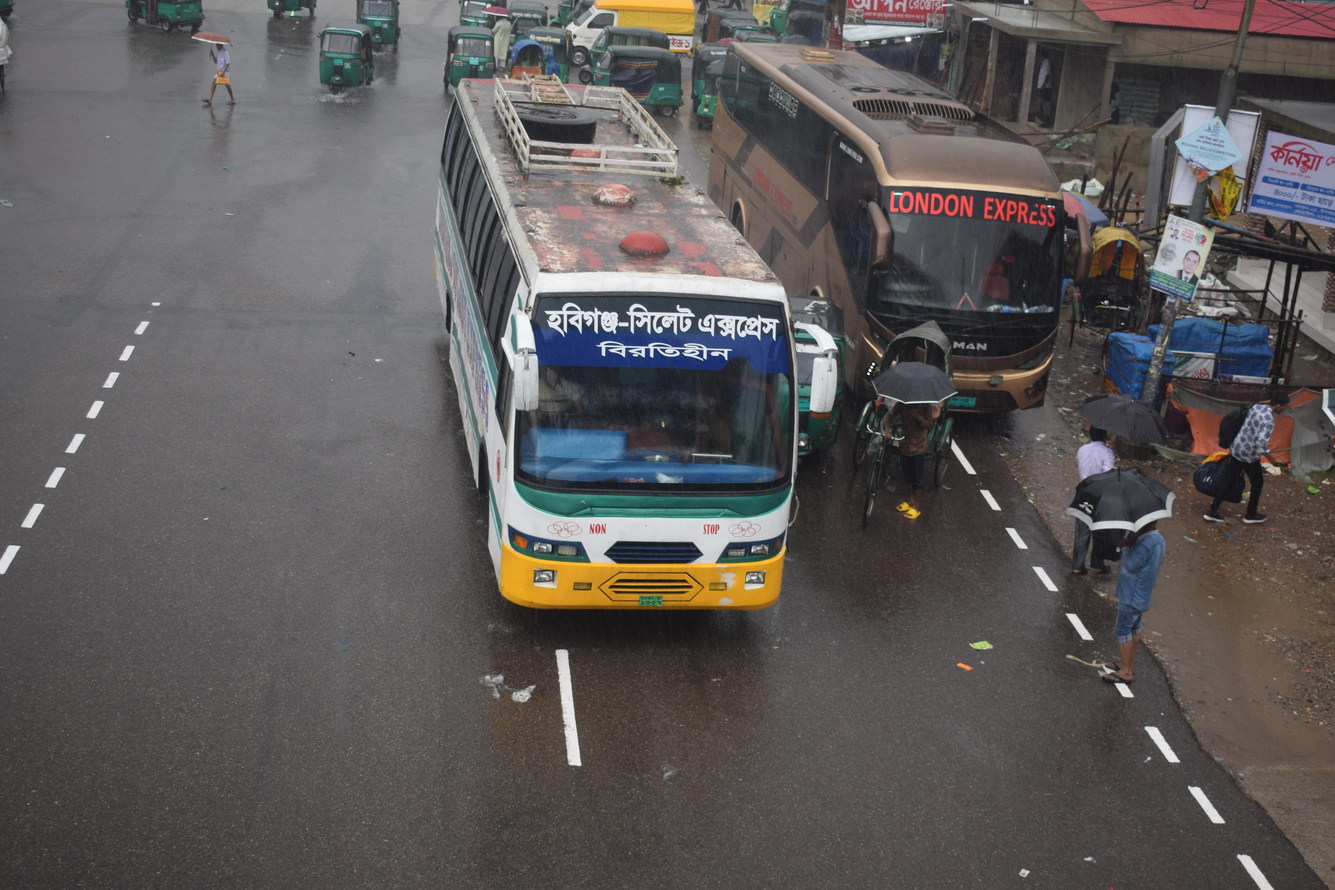Bus: (377, 60, 862, 690), (687, 14, 1078, 473)
Car: (832, 303, 978, 537)
